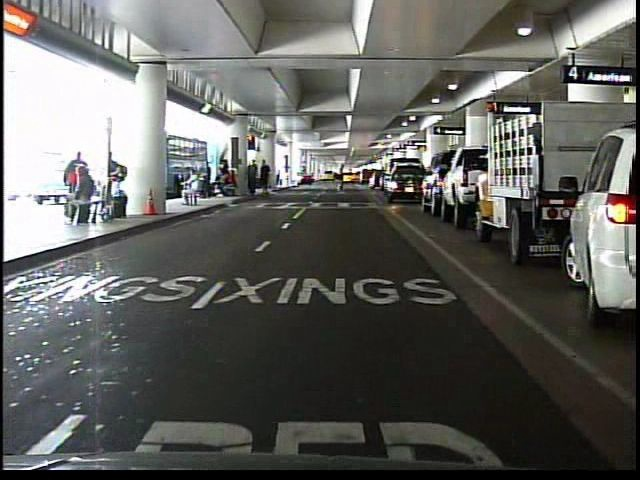person: (177, 170, 204, 209), (329, 161, 351, 194)
